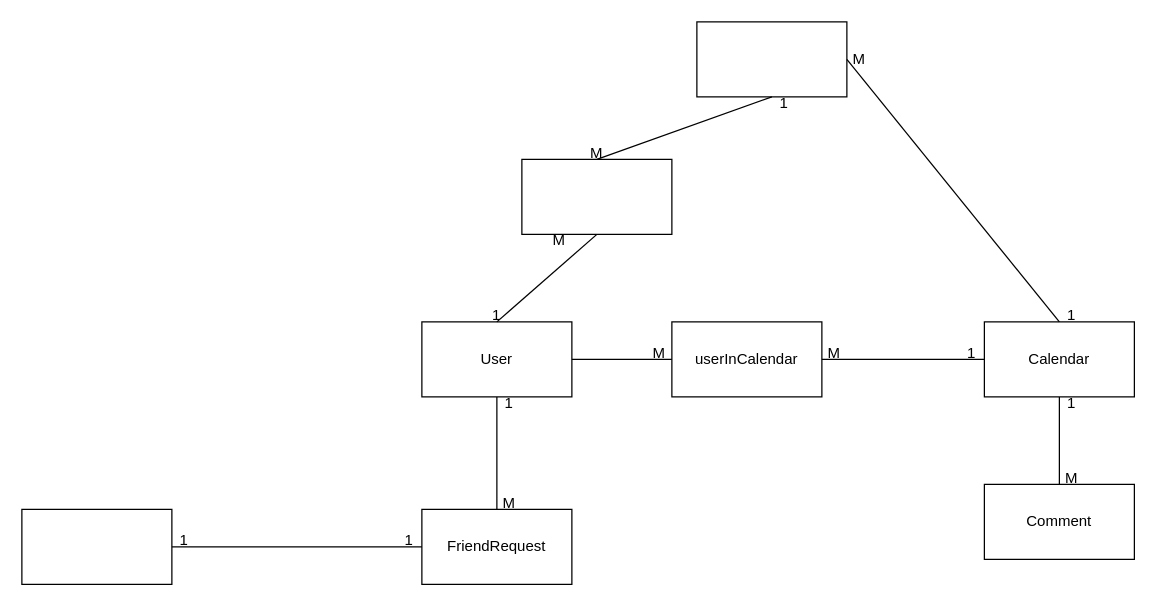
This 1156x606 diagram has some shape labels left out. The shapes that lost their labels are listed below. From the top down, each one's centre as x and y in pixels, then its label:
At (x=771, y=59): "Event".
At (x=596, y=196): "userInEvent".
At (x=96, y=546): "Friendship".
